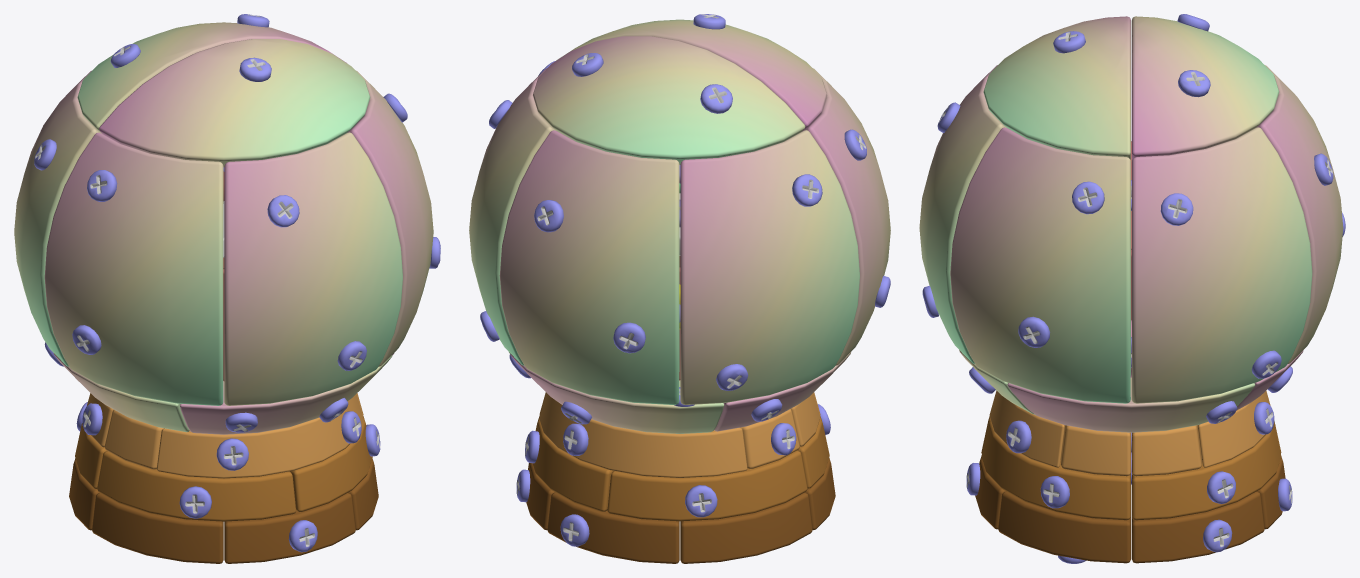
The model's file is Level_StarBall_4.fbx.
3 views of the same model, side by side, from view 1: azimuth 30°, elevation 25°; view 2: azimuth 150°, elevation 25°; view 3: azimuth 270°, elevation 25° (orthographic).
Visible parts, largest first — view 1: StarBall_08, StarBall_03, StarBall_01, StarBall_04, StarBall_07, StarBall_19, StarBall_14, StarBall_02, StarBall_25, StarBall_24, StarBall_12, StarBall_20 (+16 smaller); view 2: StarBall_07, StarBall_06, StarBall_02, StarBall_05, StarBall_08, StarBall_13, StarBall_18, StarBall_01, StarBall_26, StarBall_21, StarBall_10, StarBall_17 (+16 smaller); view 3: StarBall_05, StarBall_04, StarBall_01, StarBall_02, StarBall_03, StarBall_06, StarBall_20, StarBall_17, StarBall_09, StarBall_23, StarBall_22, StarBall_15 (+18 smaller).
Boxes of the visible parts, x1,y1,x2,y2 form: StarBall_08: [44, 132, 223, 405]; StarBall_03: [224, 132, 402, 405]; StarBall_01: [99, 39, 370, 166]; StarBall_04: [347, 70, 433, 366]; StarBall_07: [14, 70, 101, 366]; StarBall_19: [97, 451, 295, 521]; StarBall_14: [156, 394, 363, 478]; StarBall_02: [77, 22, 346, 133]; StarBall_25: [92, 493, 223, 563]; StarBall_24: [224, 493, 355, 563]; StarBall_12: [180, 355, 392, 434]; StarBall_20: [290, 416, 372, 512]; StarBall_07: [680, 130, 859, 404]; StarBall_06: [499, 130, 679, 404]; StarBall_02: [533, 36, 805, 164]; StarBall_05: [469, 68, 556, 365]; StarBall_08: [803, 68, 890, 365]; StarBall_13: [539, 393, 747, 477]; StarBall_18: [607, 450, 807, 521]; StarBall_01: [556, 19, 826, 131]; StarBall_26: [680, 492, 812, 563]; StarBall_21: [547, 492, 679, 563]; StarBall_10: [510, 354, 724, 433]; StarBall_17: [532, 415, 613, 511]; StarBall_05: [1131, 127, 1312, 403]; StarBall_04: [950, 127, 1130, 403]; StarBall_01: [983, 16, 1130, 159]; StarBall_02: [1131, 16, 1279, 159]; StarBall_03: [919, 65, 1006, 363]; StarBall_06: [1256, 65, 1343, 364]; StarBall_20: [981, 421, 1130, 520]; StarBall_17: [1132, 424, 1281, 520]; StarBall_09: [1007, 377, 1255, 432]; StarBall_23: [998, 491, 1130, 563]; StarBall_22: [1131, 485, 1264, 563]; StarBall_15: [1131, 425, 1201, 476].
Size of the model in its own units: 4.26 by 5.27 by 4.3.
